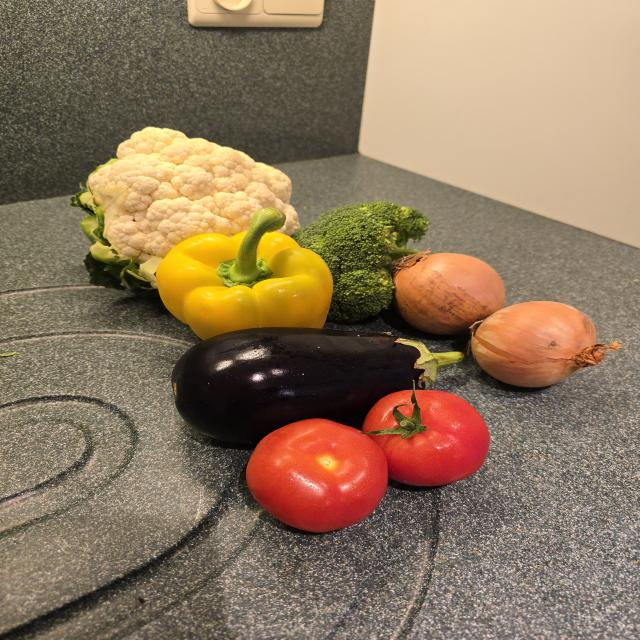Bell Pepper: (156, 207, 332, 339)
Broccoli: (292, 202, 427, 322)
Cauliflower: (87, 128, 300, 289)
Eggplant: (171, 328, 464, 444)
Onion: (470, 301, 605, 387), (391, 250, 505, 335)
Tomato: (246, 419, 388, 532), (362, 389, 489, 486)
